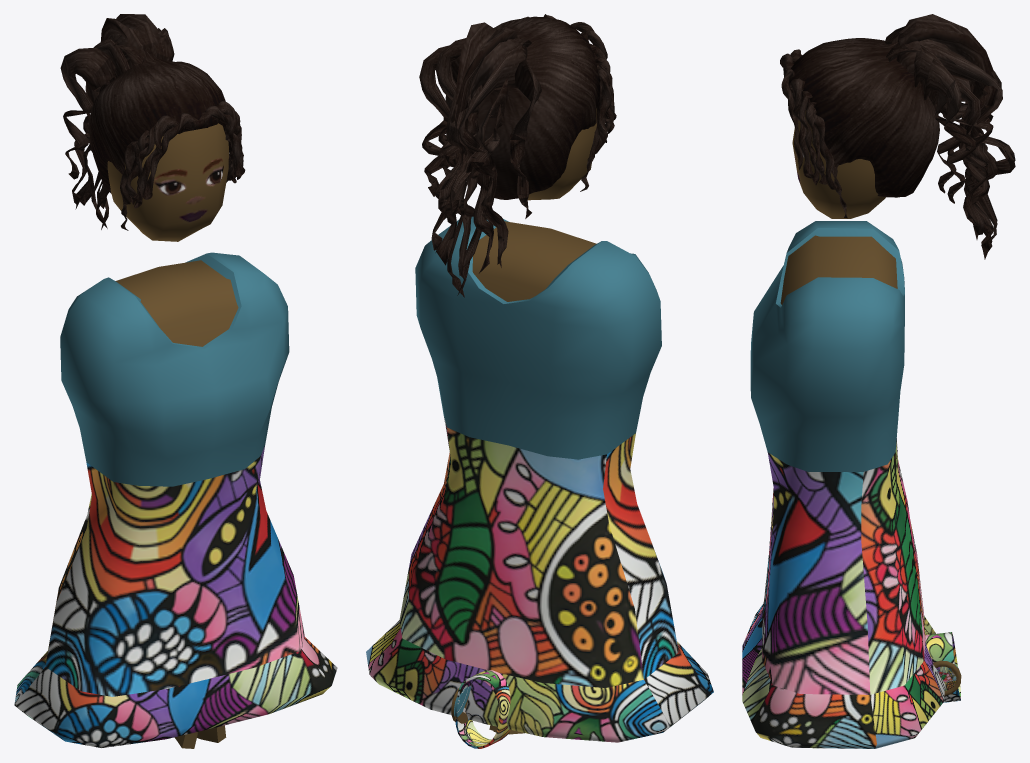
Rendered from Avatar7.fbx.
3 views of the same model, side by side, from view 1: azimuth 30°, elevation 25°; view 2: azimuth 150°, elevation 25°; view 3: azimuth 270°, elevation 25° (orthographic). The views are drawn at different scales.
Parts seen in each view (by area): view 1: Body7, Hair7, Head7; view 2: Body7, Hair7, Watch, Head7; view 3: Body7, Hair7, Head7, Watch.
Part boxes in pixels (bbox=[...]): Body7: bbox=[14, 252, 337, 747]; Hair7: bbox=[60, 14, 245, 230]; Head7: bbox=[107, 123, 228, 241]; Body7: bbox=[366, 216, 713, 742]; Hair7: bbox=[419, 14, 616, 297]; Watch: bbox=[451, 670, 510, 748]; Head7: bbox=[528, 108, 596, 200]; Body7: bbox=[742, 221, 944, 748]; Hair7: bbox=[780, 14, 1015, 259]; Head7: bbox=[792, 110, 885, 218]; Watch: bbox=[925, 632, 961, 702].
Bounding box in the file's own units: 0.5114 × 1.16 × 0.4146.
3 materials, 2 textured.
